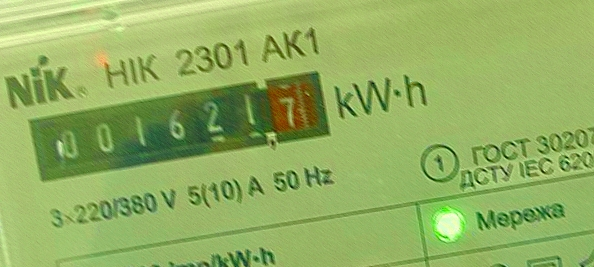0: (90, 118, 117, 157), (56, 124, 80, 161)
1: (129, 111, 148, 149), (238, 89, 257, 127)
2: (199, 97, 225, 136)
6: (163, 106, 187, 142)
7: (274, 92, 299, 131)
screen: (21, 67, 337, 188)
